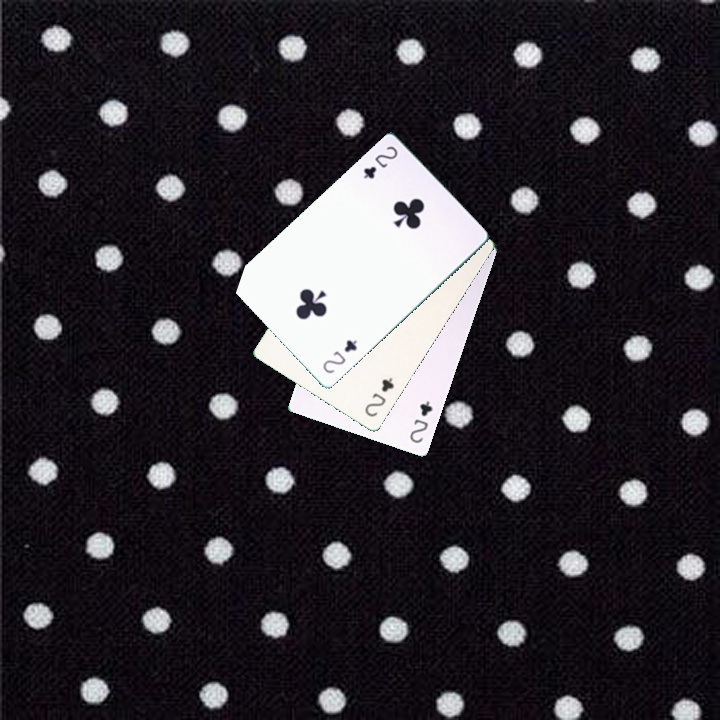2c: (360, 373, 397, 420), (319, 336, 360, 376), (359, 142, 400, 181), (406, 397, 435, 446)
